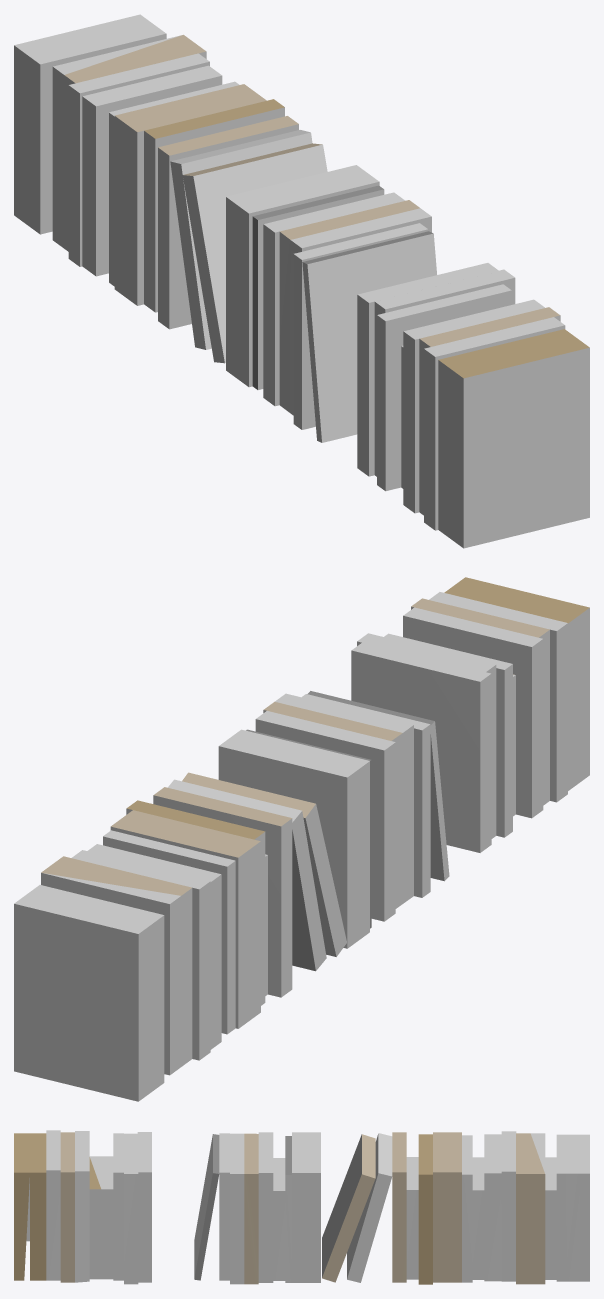
The model's file is SM_H_Government_Tide_Book_02C_ATLAS.fbx.
3 renders of one model, top to bottom at view 1: azimuth 30°, elevation 25°; view 2: azimuth 150°, elevation 25°; view 3: azimuth 270°, elevation 25°, orthographic. The views are drawn at different scales.
Visible parts, largest first — view 1: SM_H_Government_Tide_Book_02C_ATLAS; view 2: SM_H_Government_Tide_Book_02C_ATLAS; view 3: SM_H_Government_Tide_Book_02C_ATLAS.
Part boxes in pixels (x1,y1,x2,y2): SM_H_Government_Tide_Book_02C_ATLAS: (14, 14, 589, 548); SM_H_Government_Tide_Book_02C_ATLAS: (14, 577, 589, 1101); SM_H_Government_Tide_Book_02C_ATLAS: (14, 1130, 589, 1284).
Bounding box in the file's own units: 30.59 × 168 × 35.46.
